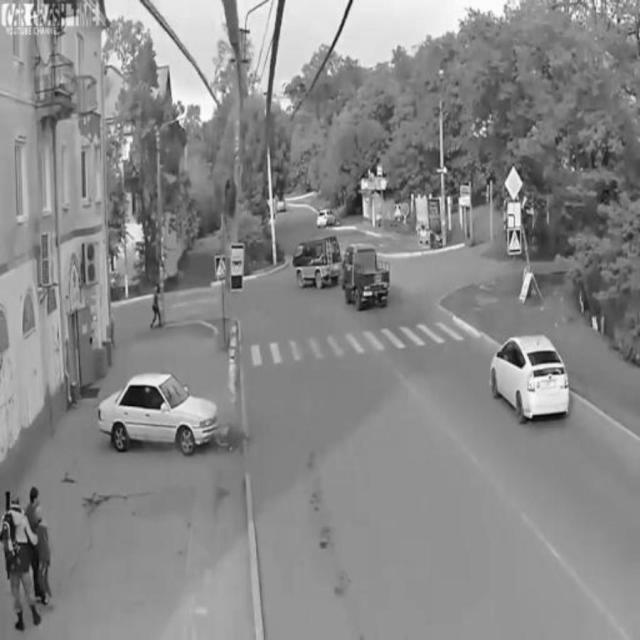person: (1, 480, 43, 630), (32, 505, 56, 608)
vehicle: (96, 372, 222, 458), (488, 328, 570, 426), (339, 237, 393, 313), (290, 228, 341, 292), (316, 206, 338, 232)
